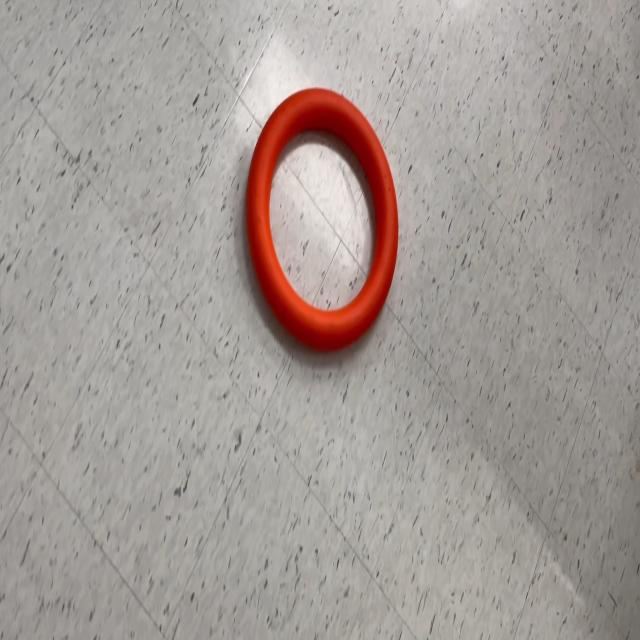note: (244, 87, 400, 353)
